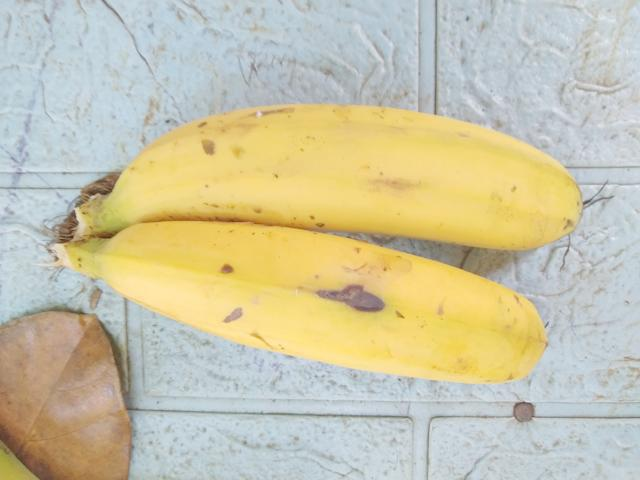freshripe: (82, 75, 581, 249)
ripe: (90, 225, 582, 447)
